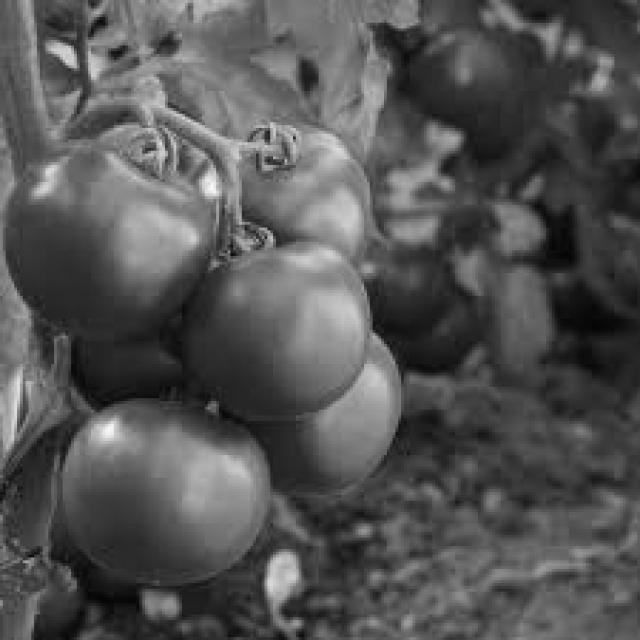Fresh_tomato: (83, 383, 259, 592), (34, 123, 208, 324), (181, 250, 380, 395), (224, 110, 376, 257), (302, 346, 390, 514)
